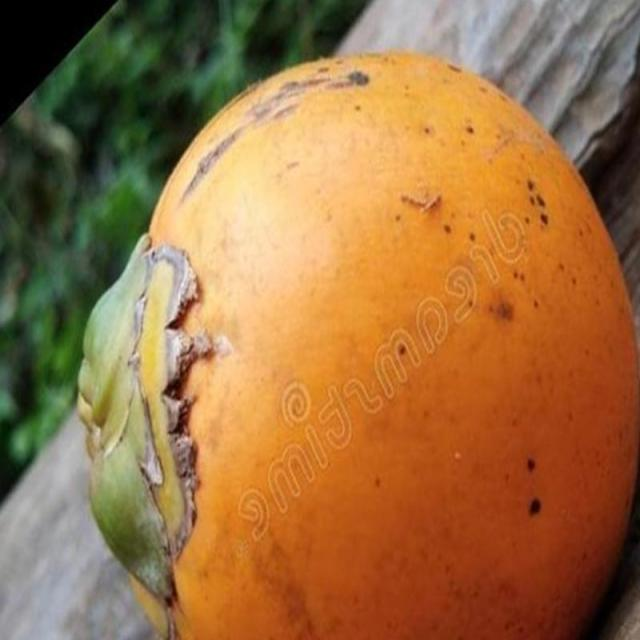good: (70, 51, 639, 639)
